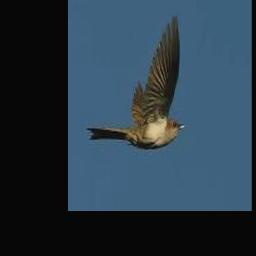Cuckoo: (86, 14, 185, 148)
